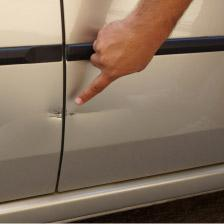dent: (1, 7, 211, 197)
